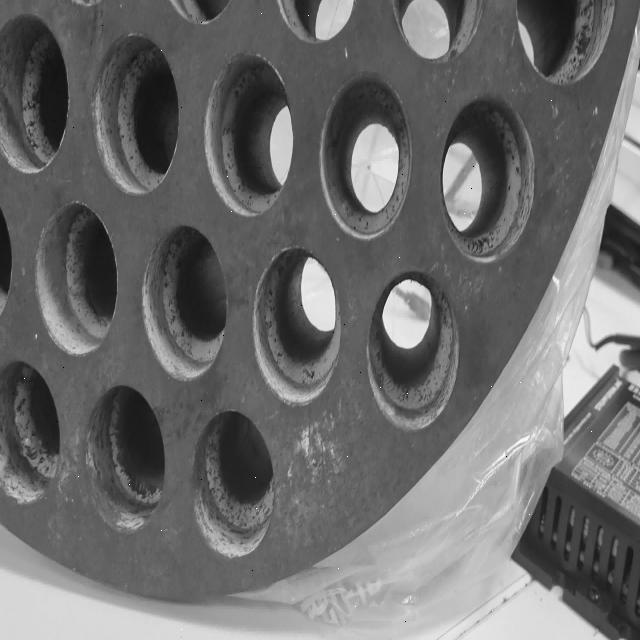Hole: (440, 95, 536, 263), (320, 74, 413, 240), (204, 51, 294, 218), (367, 270, 459, 431), (92, 32, 180, 196), (253, 246, 341, 407), (142, 225, 228, 381), (34, 200, 118, 356), (192, 408, 276, 560), (85, 384, 165, 534), (1, 12, 69, 174), (514, 0, 618, 84), (0, 360, 60, 505), (390, 0, 486, 63), (274, 1, 363, 44), (1, 176, 12, 352)
